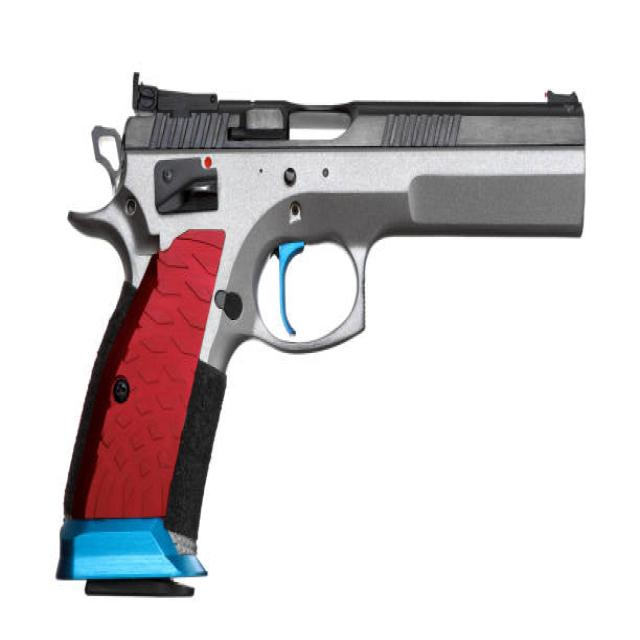pistol: (51, 64, 590, 604)
